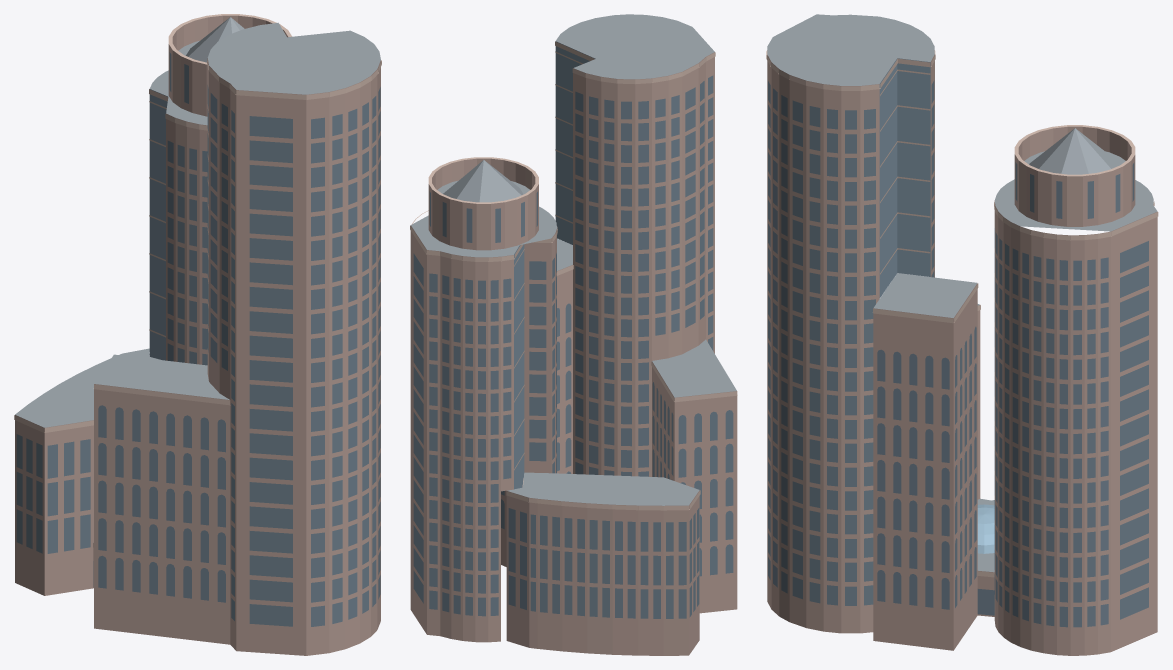
The model's file is bos-international-place.glb.
The picture shows the model from 3 angles, left to right: view 1: azimuth 30°, elevation 25°; view 2: azimuth 150°, elevation 25°; view 3: azimuth 270°, elevation 25°; orthographic projection. The views are drawn at different scales.
Parts seen in each view (by area): view 1: International Place; view 2: International Place; view 3: International Place.
Part boxes in pixels (x1=…): International Place: x1=14, y1=14, x2=381, y2=655; International Place: x1=410, y1=14, x2=737, y2=655; International Place: x1=766, y1=14, x2=1158, y2=655.
Size of the model in its own units: 101 by 184 by 119.
